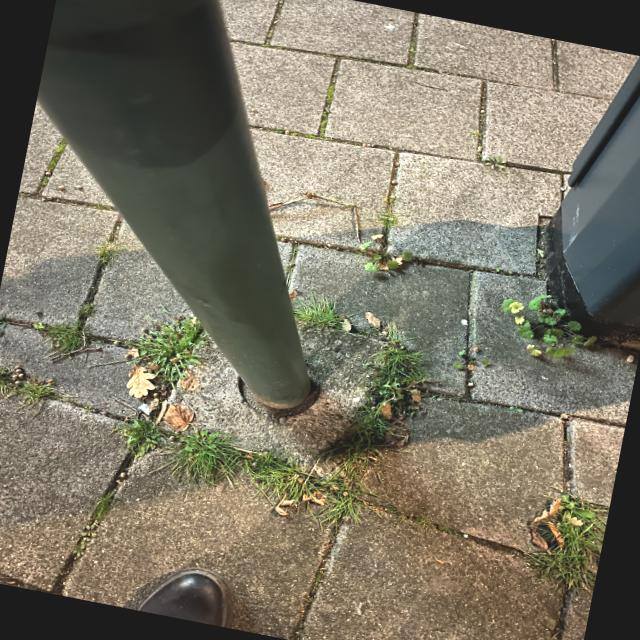leaves: (121, 348, 157, 405)
pavement: (0, 124, 635, 639), (216, 0, 540, 364), (295, 0, 616, 221), (347, 178, 490, 356), (202, 378, 243, 410)
weed: (115, 324, 441, 533)
weedling: (66, 517, 103, 565)
